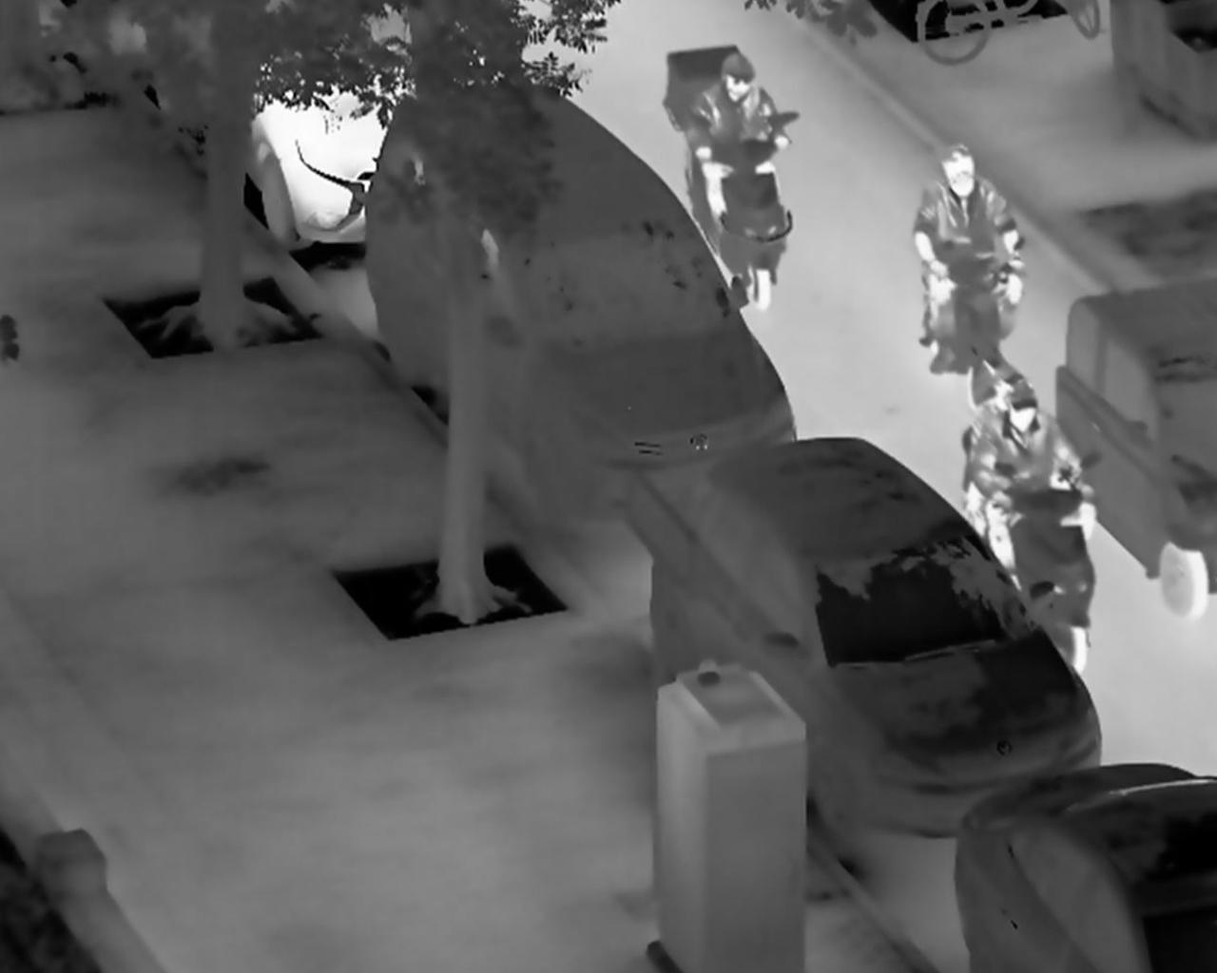person: (969, 379, 1093, 588), (911, 139, 1031, 353), (686, 48, 791, 233)
